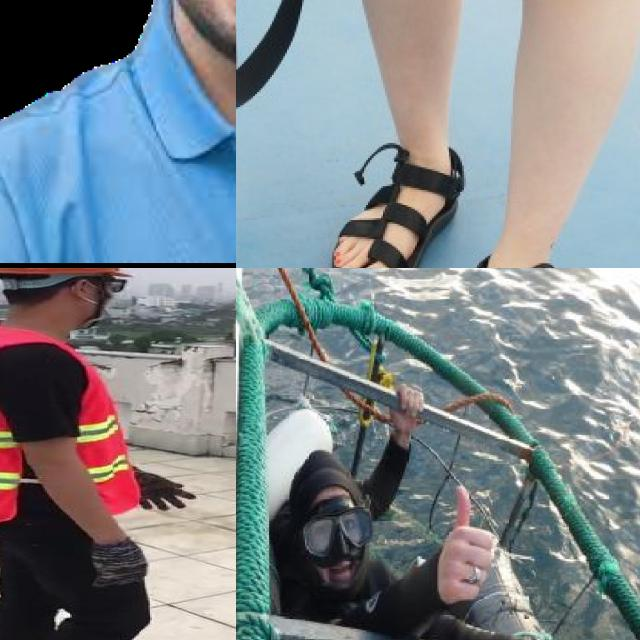Sandals: (330, 118, 465, 268)
glasses: (297, 507, 376, 563)
hand_glove: (120, 463, 203, 519), (88, 539, 152, 588)
hand_noglove: (420, 482, 504, 609), (387, 382, 429, 432)
head_nohelmet: (275, 439, 359, 500)
person: (0, 268, 214, 640), (252, 443, 489, 640)
vest: (0, 324, 141, 527)
